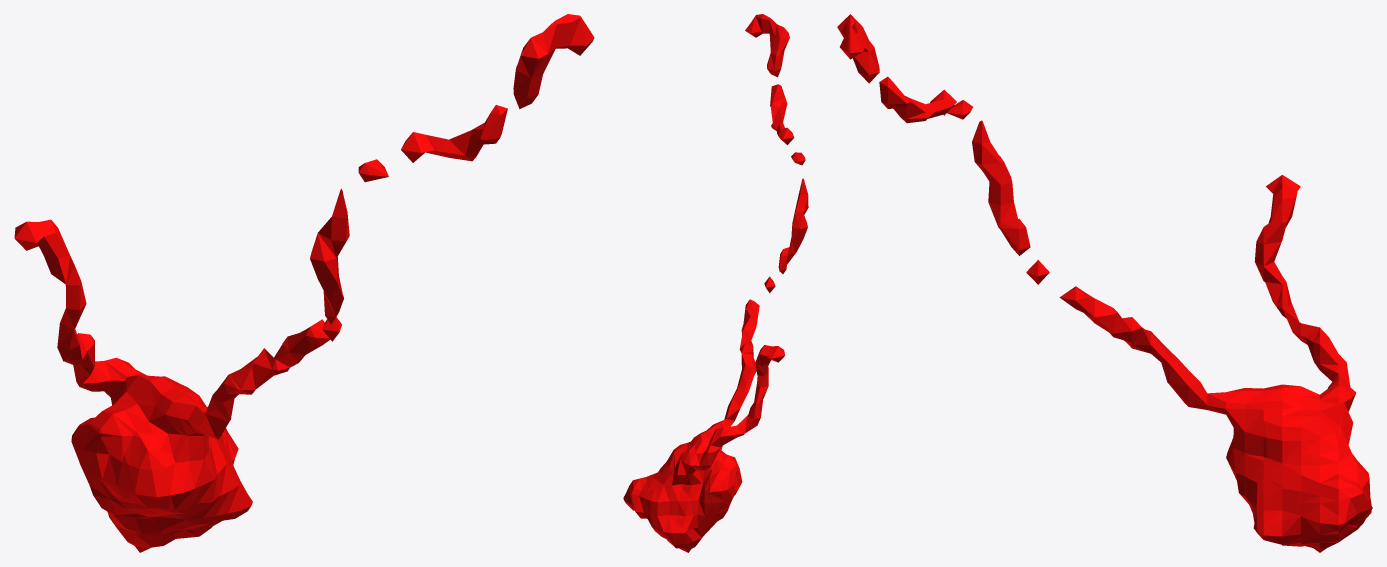
The model's file is cyoB_coarse.dae.
3 renders of one model, left to right at view 1: azimuth 30°, elevation 25°; view 2: azimuth 150°, elevation 25°; view 3: azimuth 270°, elevation 25°, orthographic. The views are drawn at different scales.
Parts seen in each view (by area): view 1: cyoB; view 2: cyoB; view 3: cyoB.
Part boxes in pixels (<box>): cyoB: <box>14,14,594,552</box>; cyoB: <box>623,14,808,552</box>; cyoB: <box>837,14,1372,552</box>.
Size of the model in its own units: 130 by 273 by 223.
